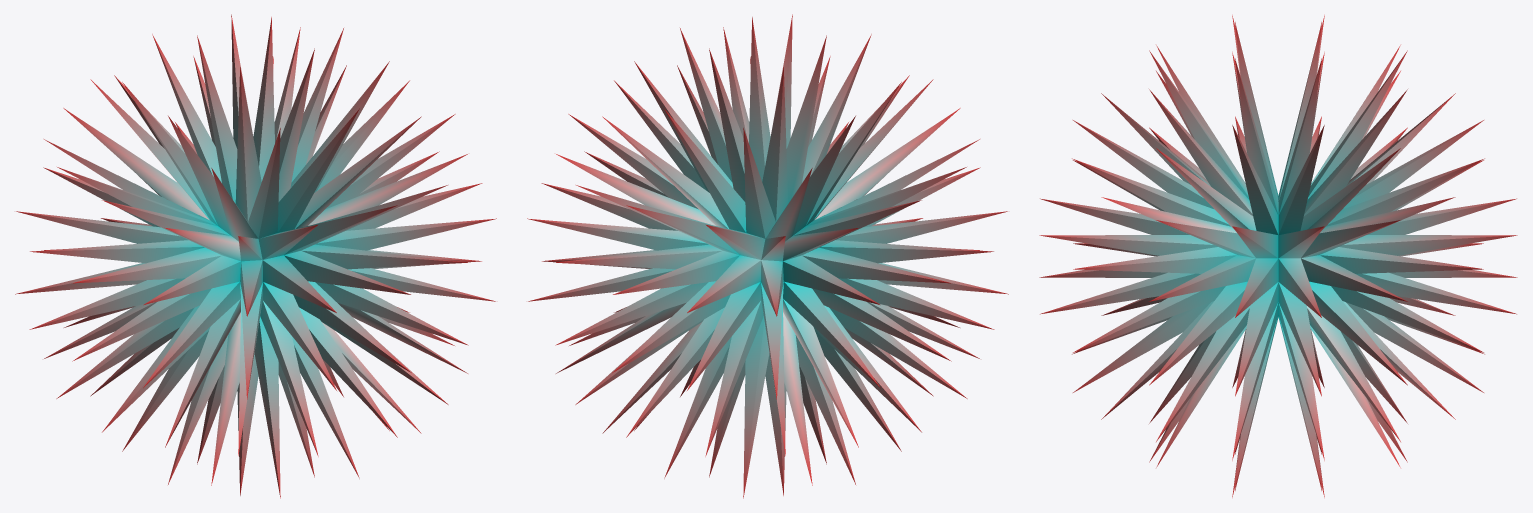
Rendered from zeometry-stars-spikes-spiky-ball_v1.glb.
3 renders of one model, left to right at view 1: azimuth 30°, elevation 25°; view 2: azimuth 150°, elevation 25°; view 3: azimuth 270°, elevation 25°, orthographic.
Parts seen in each view (by area): view 1: Spiky Ball_v1; view 2: Spiky Ball_v1; view 3: Spiky Ball_v1.
Part boxes in pixels (x1=…): Spiky Ball_v1: x1=15, y1=14, x2=496, y2=498; Spiky Ball_v1: x1=527, y1=14, x2=1008, y2=498; Spiky Ball_v1: x1=1039, y1=15, x2=1517, y2=497.
Bounding box in the file's own units: 0.5 × 0.5 × 0.5.
